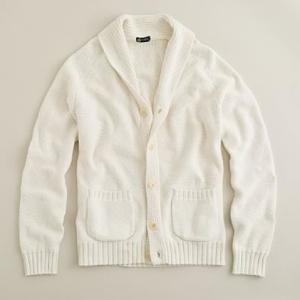S_cardigan sweater: (19, 27, 284, 285)
